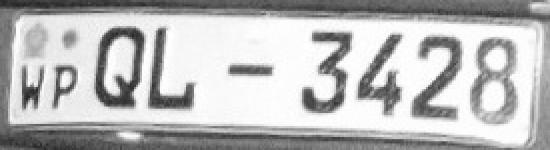-: (223, 58, 277, 83)
2: (468, 30, 527, 131), (406, 27, 466, 126)
3: (299, 22, 356, 116)
4: (356, 23, 406, 119)
L: (148, 22, 200, 117)
P: (49, 61, 83, 116)
Q: (87, 18, 148, 116)
W: (18, 63, 51, 117)
